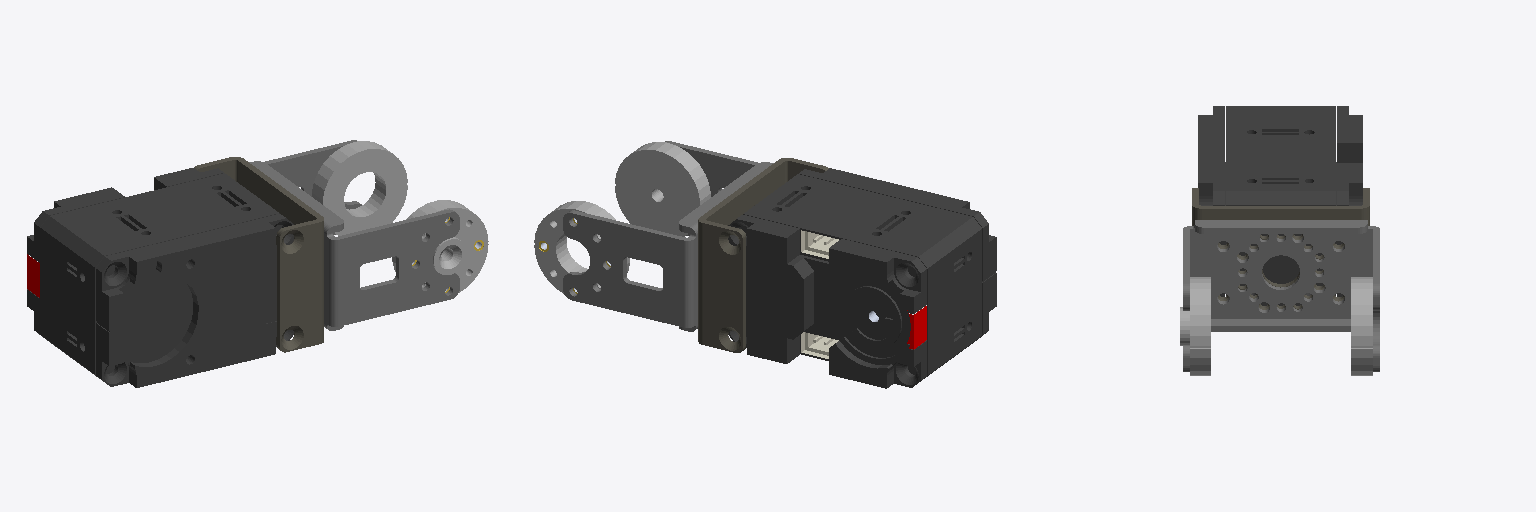
3 views of the same model, side by side, from view 1: azimuth 30°, elevation 25°; view 2: azimuth 150°, elevation 25°; view 3: azimuth 270°, elevation 25° (orthographic).
Visible parts, largest first — view 1: mesh142, mesh210, mesh426, mesh138, mesh156, mesh516, mesh534, mesh113, mesh333, mesh471, mesh388, mesh537 (+11 smaller); view 2: mesh210, mesh364, mesh310, mesh156, mesh338, mesh522, mesh322, mesh113, mesh532, mesh471, mesh296, mesh427 (+15 smaller); view 3: mesh466, mesh210, mesh537, mesh113, mesh337, mesh505, mesh24, mesh421, mesh2, mesh398, mesh424, mesh396 (+3 smaller).
Boxes of the visible parts, box(x1,y1,x2,y2) form: mesh142: box(135, 228, 276, 387); mesh210: box(50, 173, 278, 255); mesh426: box(339, 212, 459, 326); mesh138: box(112, 261, 192, 364); mesh156: box(40, 228, 94, 373); mesh516: box(280, 222, 319, 352); mesh534: box(323, 149, 407, 235); mesh113: box(105, 214, 285, 261); mesh333: box(422, 208, 488, 292); mesh471: box(238, 161, 316, 224); mesh388: box(268, 146, 361, 234); mesh537: box(312, 141, 390, 204); mesh210: box(744, 174, 971, 256); mesh364: box(563, 213, 683, 327); mesh310: box(746, 229, 803, 363); mesh156: box(928, 229, 981, 374); mesh338: box(615, 150, 699, 236); mesh522: box(703, 223, 742, 352); mesh322: box(804, 258, 862, 339); mesh113: box(799, 168, 978, 215); mesh532: box(534, 209, 600, 293); mesh471: box(706, 162, 784, 225); mesh296: box(846, 277, 910, 357); mesh427: box(680, 147, 754, 235); mesh466: box(1190, 228, 1372, 318); mesh210: box(1226, 106, 1335, 190); mesh537: box(1351, 277, 1372, 375); mesh113: box(1198, 106, 1224, 190); mesh337: box(1190, 277, 1210, 375); mesh505: box(1202, 209, 1360, 309); mesh24: box(1226, 191, 1335, 204); mesh421: box(1195, 220, 1367, 227); mesh2: box(1226, 205, 1335, 305); mesh398: box(1211, 319, 1350, 325); mesh424: box(1204, 228, 1357, 233); mesh396: box(1211, 326, 1350, 331).
Bounding box in the file's own units: 0.0901 × 0.029 × 0.0415.